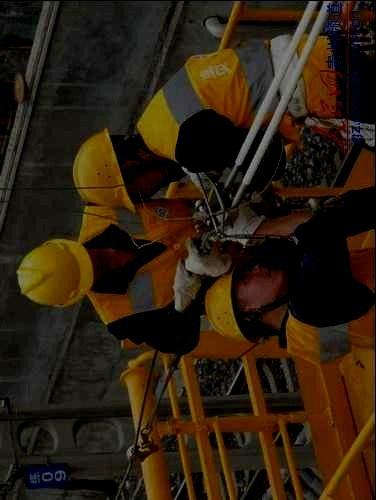helmet: (71, 127, 173, 214), (204, 263, 287, 346), (15, 238, 105, 308)
